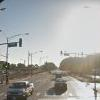Car: (52, 71, 73, 97)
